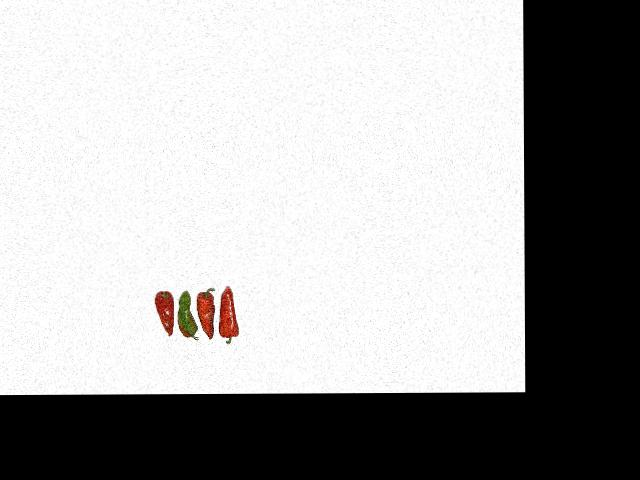bell_pepper: (149, 289, 175, 340)
